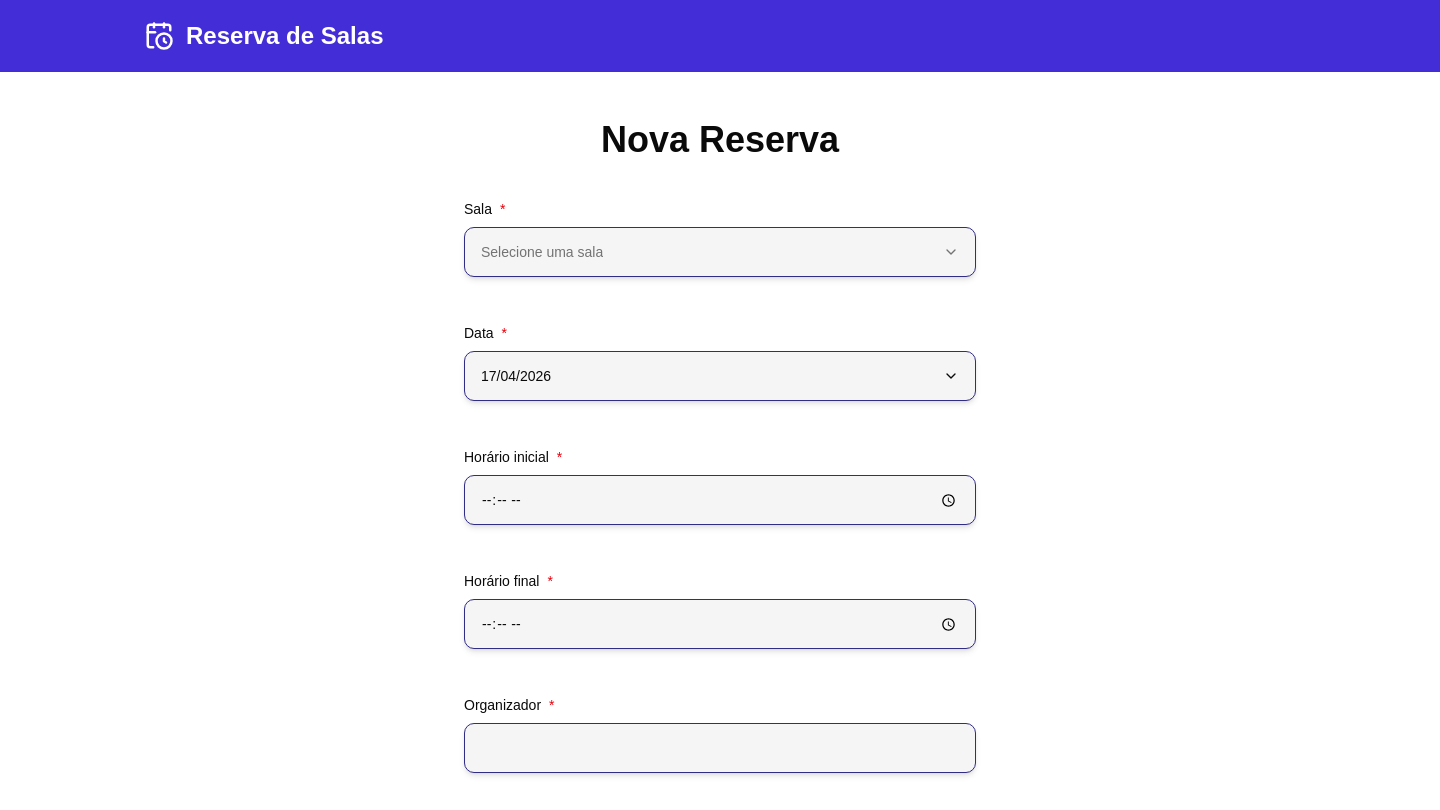
Scenario: CreateReservation › Submissão do Formulário › deve notificar com erro quando tiver conflito de horários
The width and height of the screenshot is (1440, 810).
Check: the text "Selecione uma sala" is shown, box [481, 242, 603, 262]
Click the dropdown with test id "select-salaId".
click(542, 252)  # box [464, 227, 976, 277]
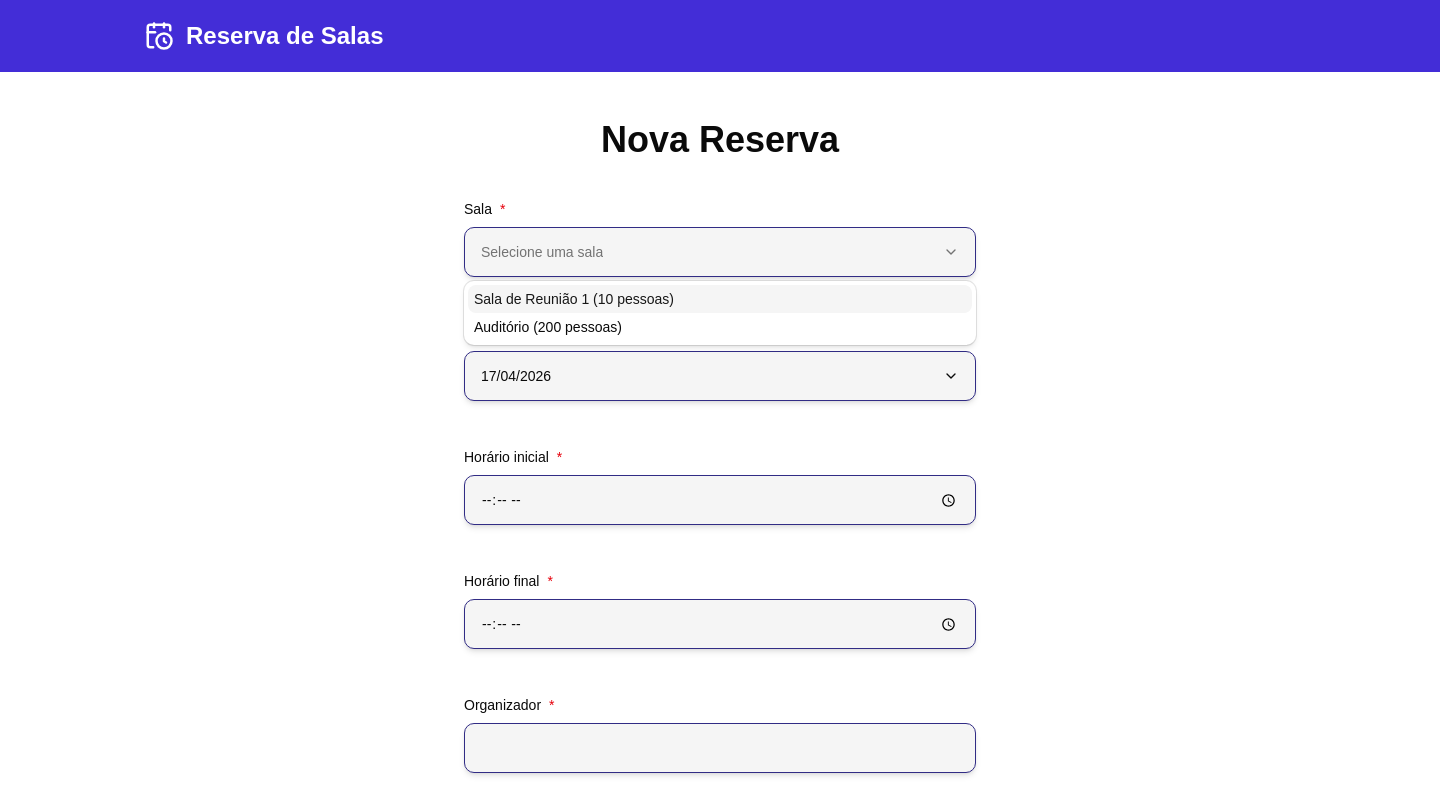
Click the option with test id "select-item-salaId".
click(574, 299)  # box [468, 285, 972, 313]
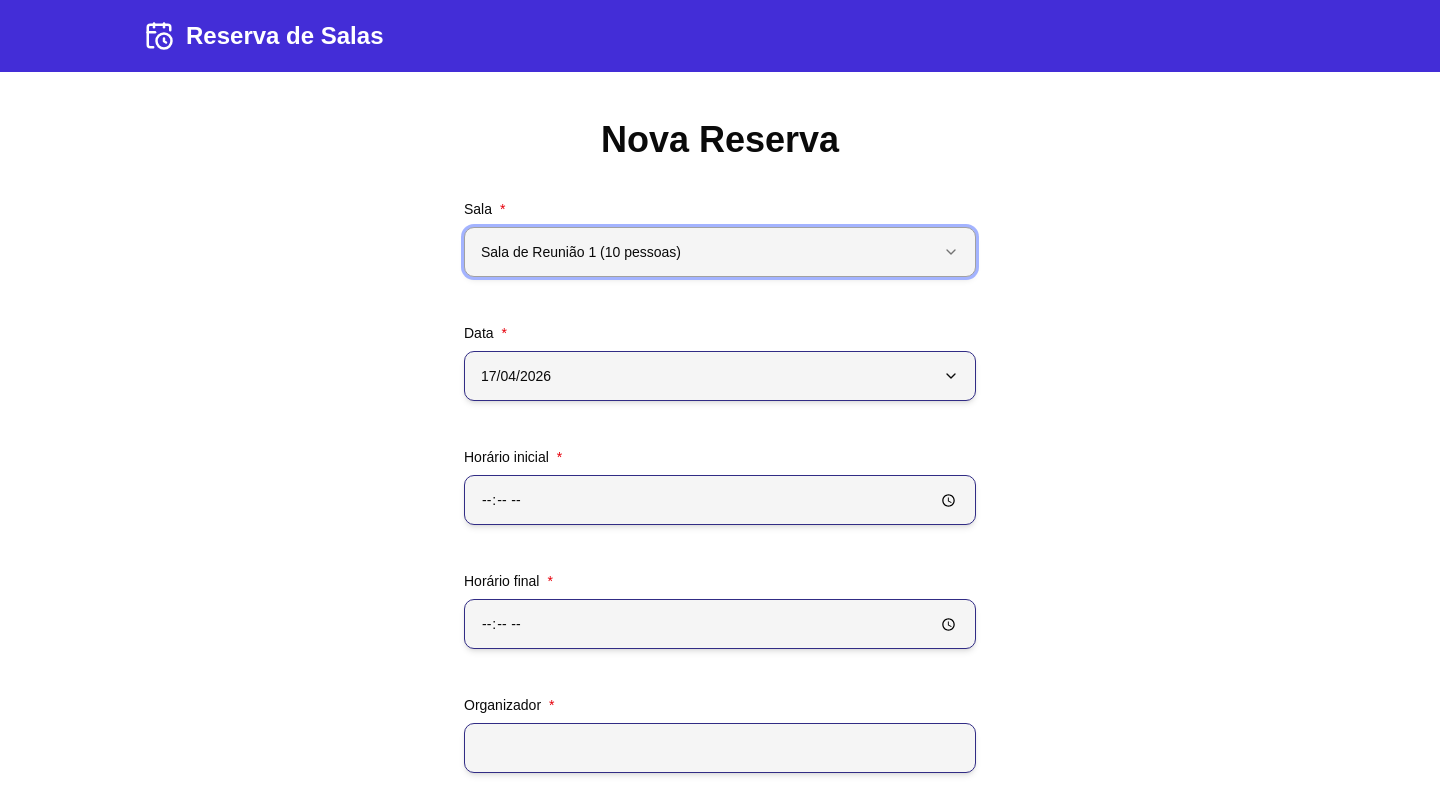
Type "19:00" into the time field with test id "input-inicio".
click(720, 500); type("19:00")  # box [464, 475, 976, 525]
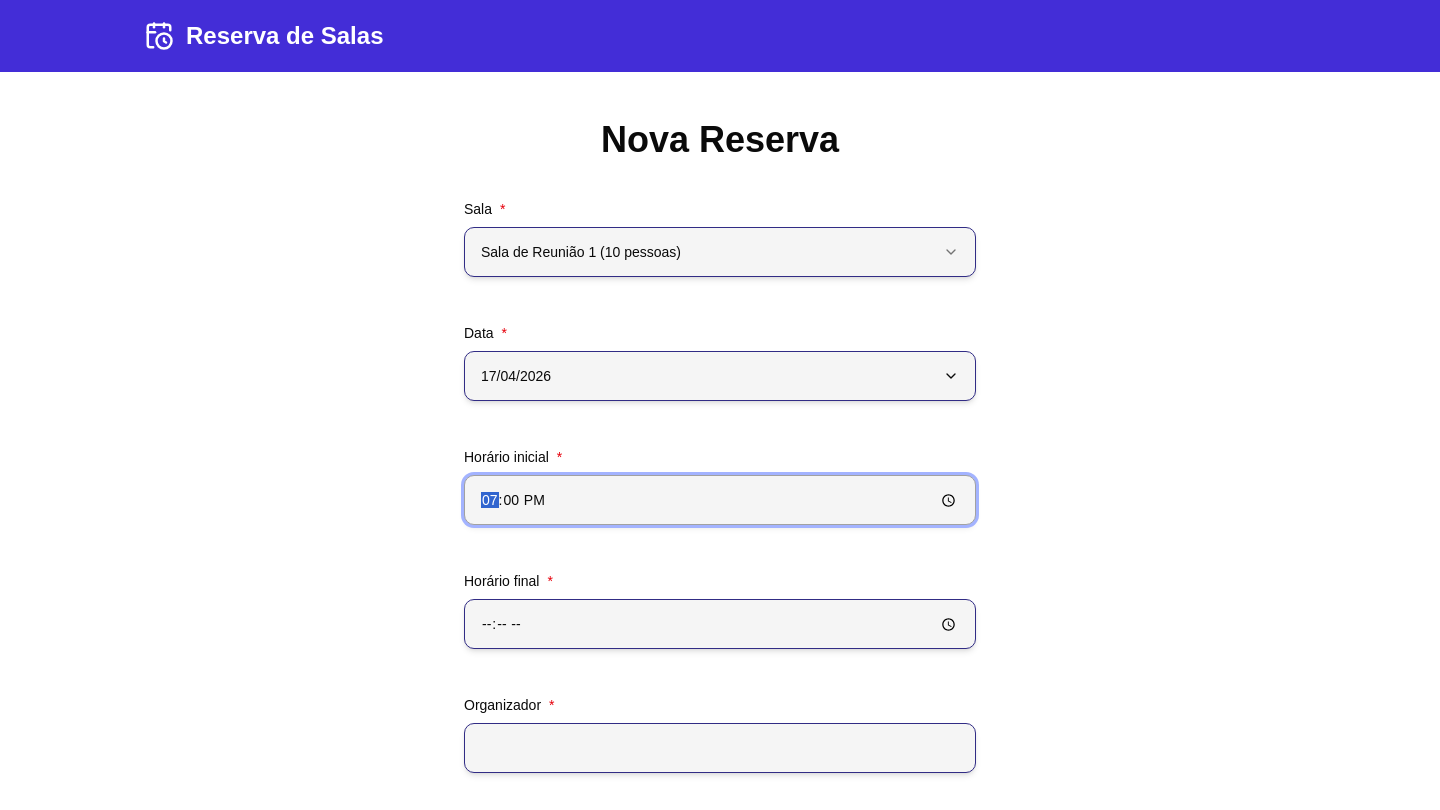
Type "19:30" into the time field with test id "input-fim".
click(720, 624); type("19:30")  # box [464, 599, 976, 649]
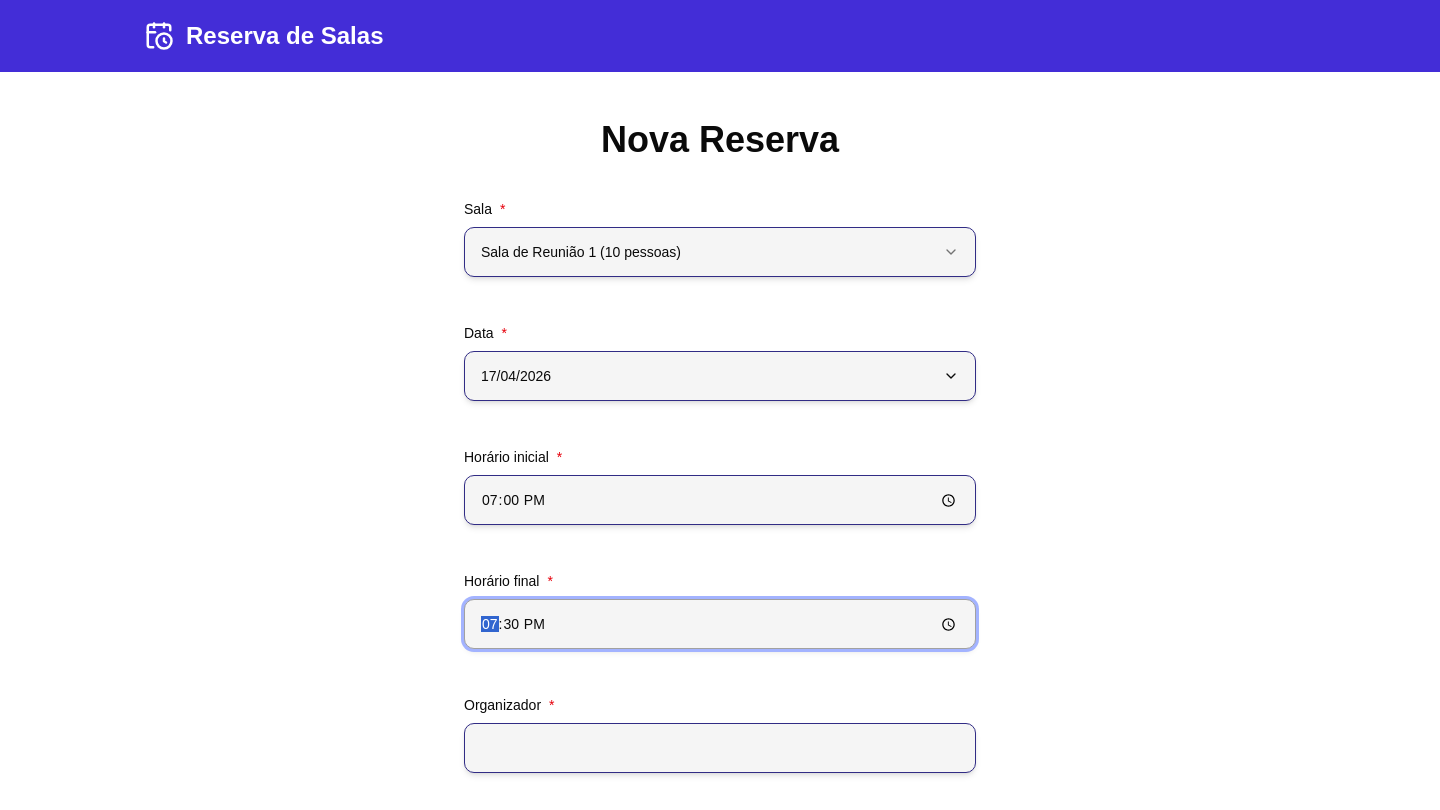
Type "Usuário Teste" into the field with test id "input-organizador".
click(720, 748); type("Usuário Teste")  # box [464, 723, 976, 773]
(page scrolled)
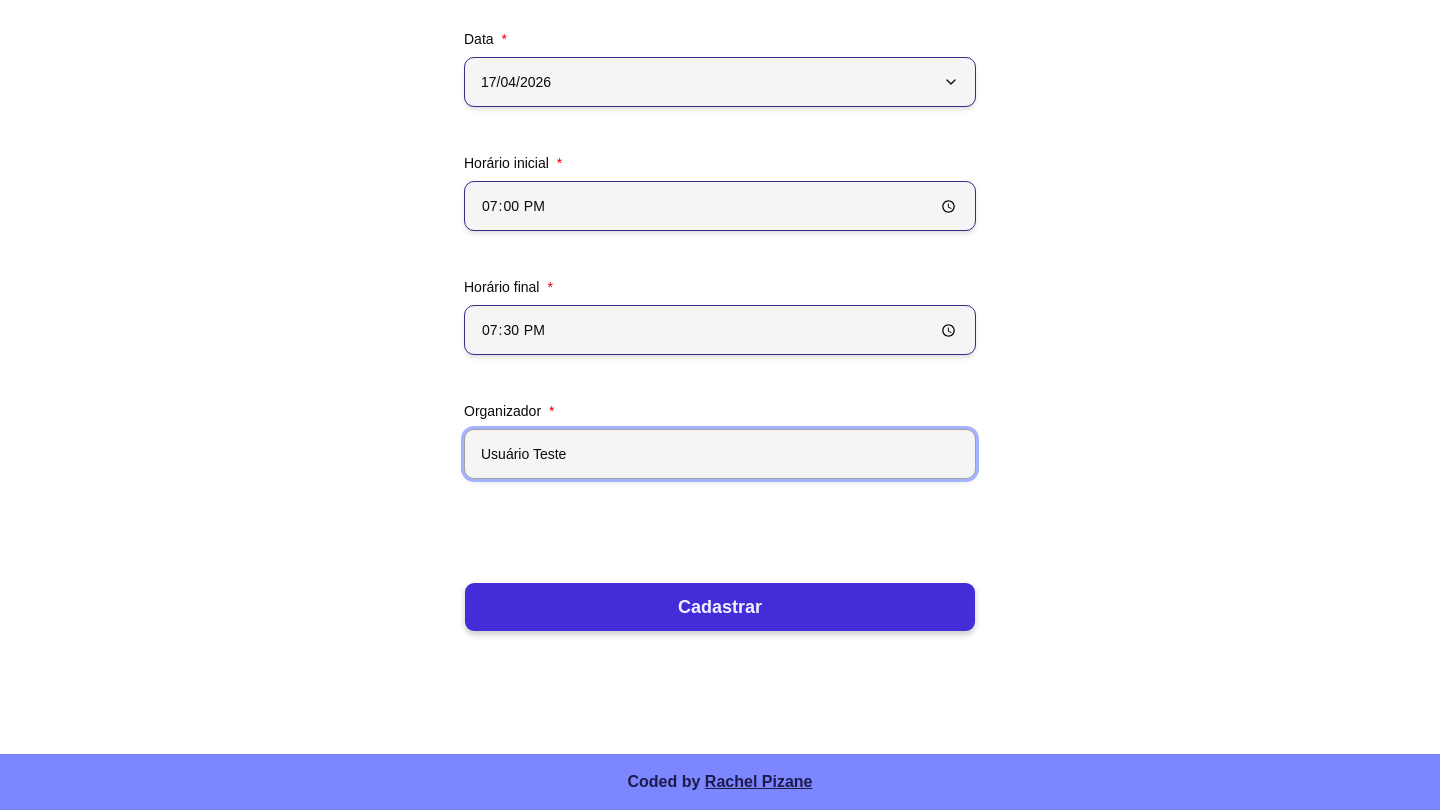
Click the button "Cadastrar".
click(720, 607)  # box [464, 582, 976, 632]
(page scrolled)
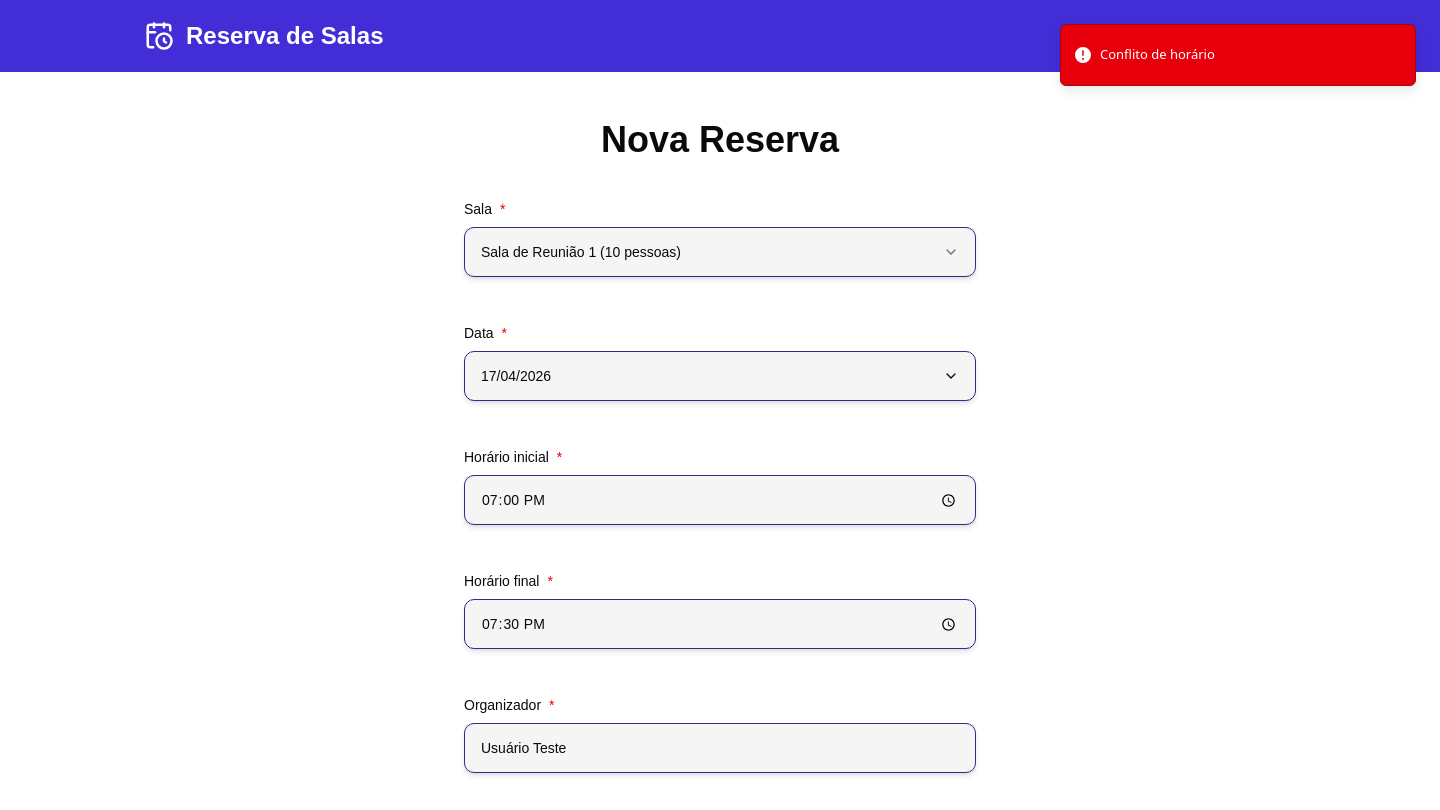
Check: the heading "Nova Reserva" is shown, box [601, 119, 839, 160]
Check: the text "Conflito de horário" is shown, box [1100, 45, 1215, 64]
